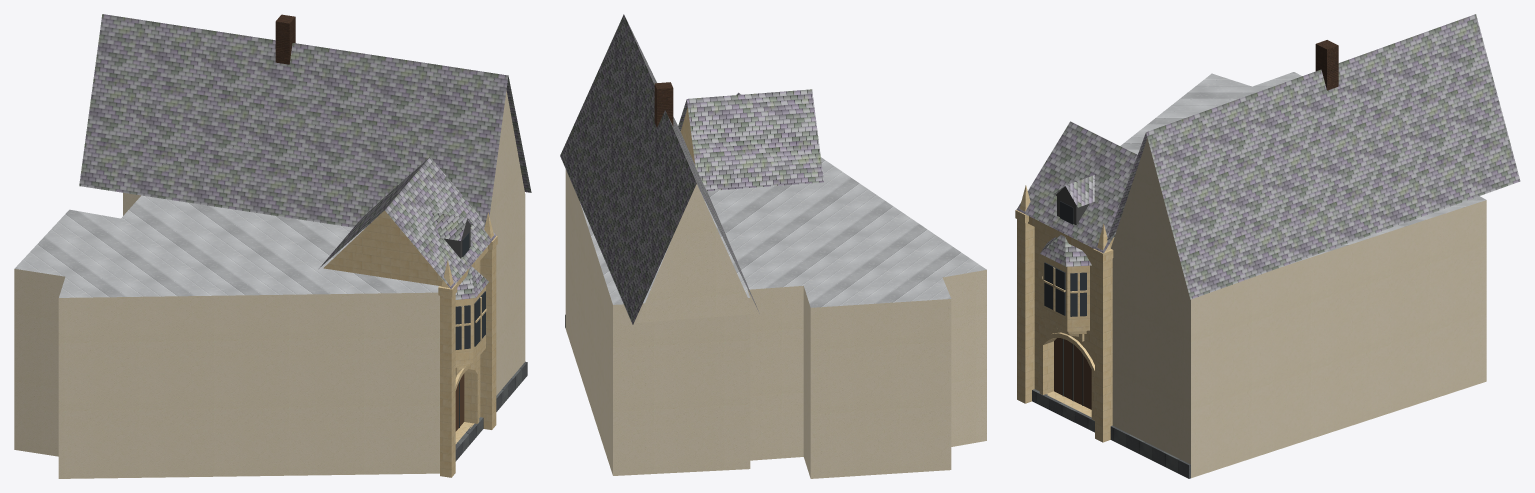
3 views of the same model, side by side, from view 1: azimuth 30°, elevation 25°; view 2: azimuth 150°, elevation 25°; view 3: azimuth 270°, elevation 25° (orthographic). The views are drawn at different scales.
Parts seen in each view (by area): view 1: bldg_503176291_landmark; view 2: bldg_503176291_landmark; view 3: bldg_503176291_landmark.
Boxes of the visible parts, left/top/right/bottom form: bldg_503176291_landmark: left=14, top=14, right=531, bottom=478; bldg_503176291_landmark: left=560, top=14, right=986, bottom=478; bldg_503176291_landmark: left=1015, top=14, right=1520, bottom=478.
Size of the model in its own units: 21.54 by 15.4 by 20.17.
10 materials, 6 textured.
